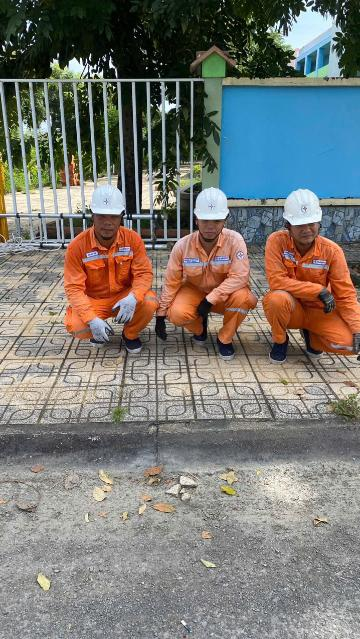gloves: (83, 314, 117, 344), (314, 281, 339, 316), (112, 292, 137, 324), (153, 310, 171, 342), (346, 325, 360, 360), (195, 300, 213, 320)
helmet: (278, 177, 334, 244), (186, 182, 237, 241), (79, 182, 133, 229)
shoes: (298, 328, 324, 361), (122, 327, 150, 357), (267, 331, 288, 367), (192, 312, 211, 348), (213, 332, 234, 361)
